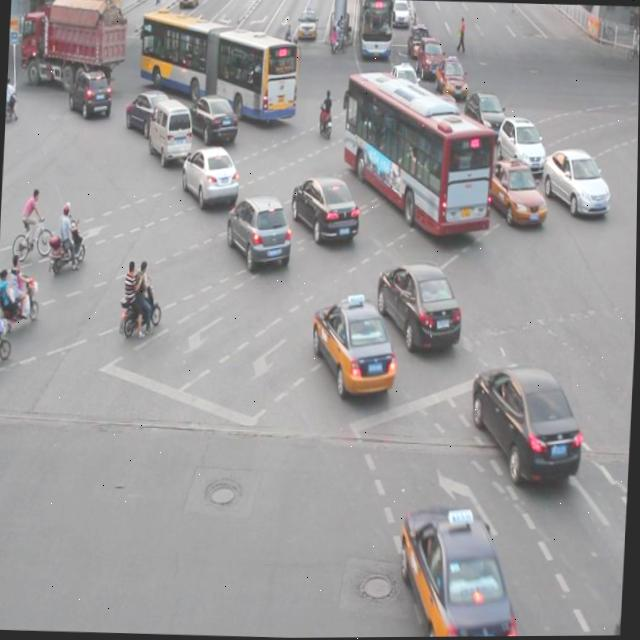car: (397, 500, 524, 638), (469, 362, 585, 484), (309, 294, 399, 399), (375, 259, 464, 352), (225, 191, 293, 270), (540, 145, 611, 219), (290, 173, 361, 245), (486, 157, 549, 227), (181, 144, 241, 207), (494, 115, 546, 177), (185, 93, 239, 146), (124, 88, 173, 140), (422, 90, 465, 145), (69, 66, 113, 117), (462, 91, 505, 142)
truck: (147, 97, 194, 161)
van: (341, 70, 495, 238), (138, 8, 299, 122)
